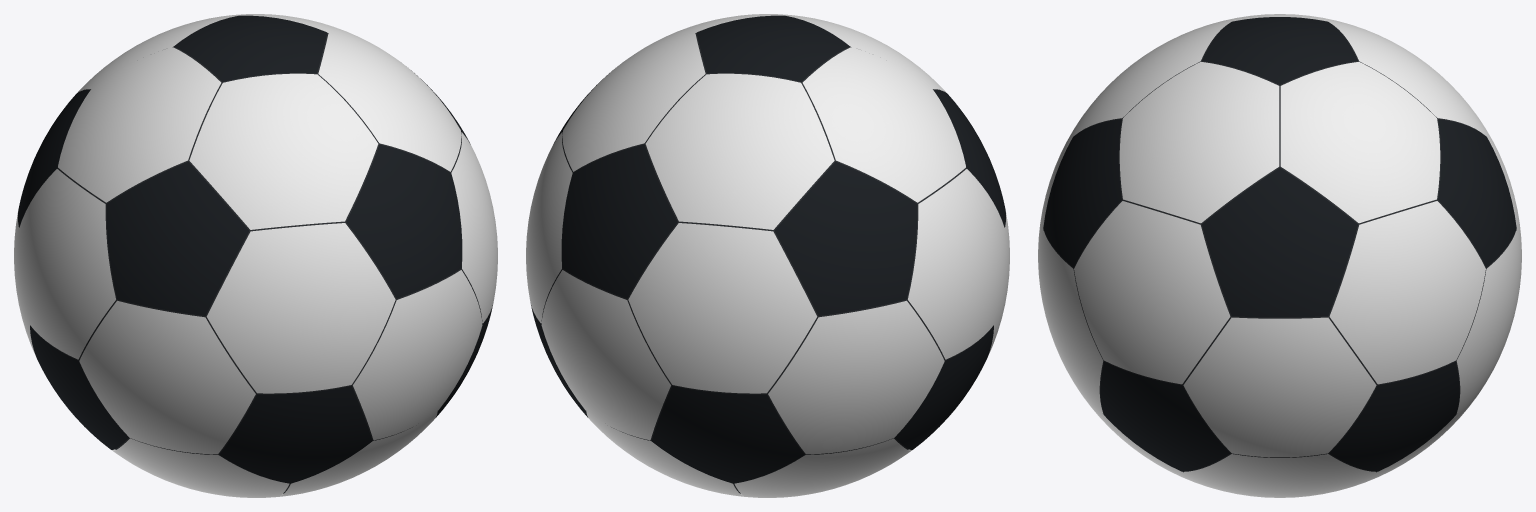
File: football-v3.glb
3 renders of one model, left to right at view 1: azimuth 30°, elevation 25°; view 2: azimuth 150°, elevation 25°; view 3: azimuth 270°, elevation 25°, orthographic.
Visible parts, largest first — view 1: Leather panel 23, Leather panel 28, Leather panel 19, Leather panel 07, Leather panel 29, Leather panel 24, Leather panel 18, Leather panel 06, Leather panel 02, Leather panel 27, Leather panel 11, Leather panel 22 (+9 smaller); view 2: Leather panel 25, Leather panel 30, Leather panel 20, Leather panel 08, Leather panel 29, Leather panel 24, Leather panel 21, Leather panel 09, Leather panel 04, Leather panel 31, Leather panel 11, Leather panel 26 (+9 smaller); view 3: Leather panel 17, Leather panel 22, Leather panel 26, Leather panel 27, Leather panel 31, Leather panel 10, Leather panel 01, Leather panel 05, Leather panel 06, Leather panel 09, Leather panel 11, Leather panel 13 (+7 smaller).
Boxes of the visible parts, bbox=[...] form: Leather panel 23: bbox=[206, 223, 395, 393]; Leather panel 28: bbox=[189, 73, 378, 229]; Leather panel 19: bbox=[79, 300, 255, 454]; Leather panel 07: bbox=[106, 161, 249, 315]; Leather panel 29: bbox=[58, 47, 221, 202]; Leather panel 24: bbox=[18, 169, 115, 359]; Leather panel 18: bbox=[353, 270, 482, 440]; Leather panel 06: bbox=[346, 144, 461, 298]; Leather panel 02: bbox=[219, 386, 372, 483]; Leather panel 27: bbox=[318, 33, 461, 171]; Leather panel 11: bbox=[174, 15, 326, 81]; Leather panel 22: bbox=[451, 132, 497, 322]; Leather panel 25: bbox=[628, 223, 817, 393]; Leather panel 30: bbox=[645, 73, 834, 229]; Leather panel 20: bbox=[768, 300, 944, 454]; Leather panel 08: bbox=[774, 161, 917, 315]; Leather panel 29: bbox=[802, 47, 965, 202]; Leather panel 24: bbox=[908, 169, 1005, 359]; Leather panel 21: bbox=[541, 270, 670, 440]; Leather panel 09: bbox=[562, 144, 677, 298]; Leather panel 04: bbox=[651, 386, 804, 483]; Leather panel 31: bbox=[562, 33, 705, 171]; Leather panel 11: bbox=[697, 15, 849, 81]; Leather panel 26: bbox=[526, 132, 572, 322]; Leather panel 17: bbox=[1183, 317, 1376, 457]; Leather panel 22: bbox=[1074, 201, 1230, 384]; Leather panel 26: bbox=[1329, 201, 1485, 384]; Leather panel 27: bbox=[1119, 62, 1279, 223]; Leather panel 31: bbox=[1280, 62, 1440, 223]; Leather panel 10: bbox=[1202, 168, 1357, 317]; Leather panel 01: bbox=[1100, 361, 1230, 471]; Leather panel 05: bbox=[1329, 361, 1459, 471]; Leather panel 06: bbox=[1043, 119, 1121, 267]; Leather panel 09: bbox=[1438, 119, 1516, 267]; Leather panel 11: bbox=[1202, 17, 1357, 84]; Leather panel 13: bbox=[1183, 454, 1376, 497].
Size of the model in its own units: 0.9997 by 1 by 0.9996.
Materials: 3 (1 with a texture image).
